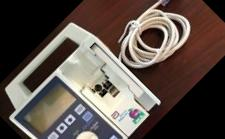plumxl1: (7, 21, 160, 139)
